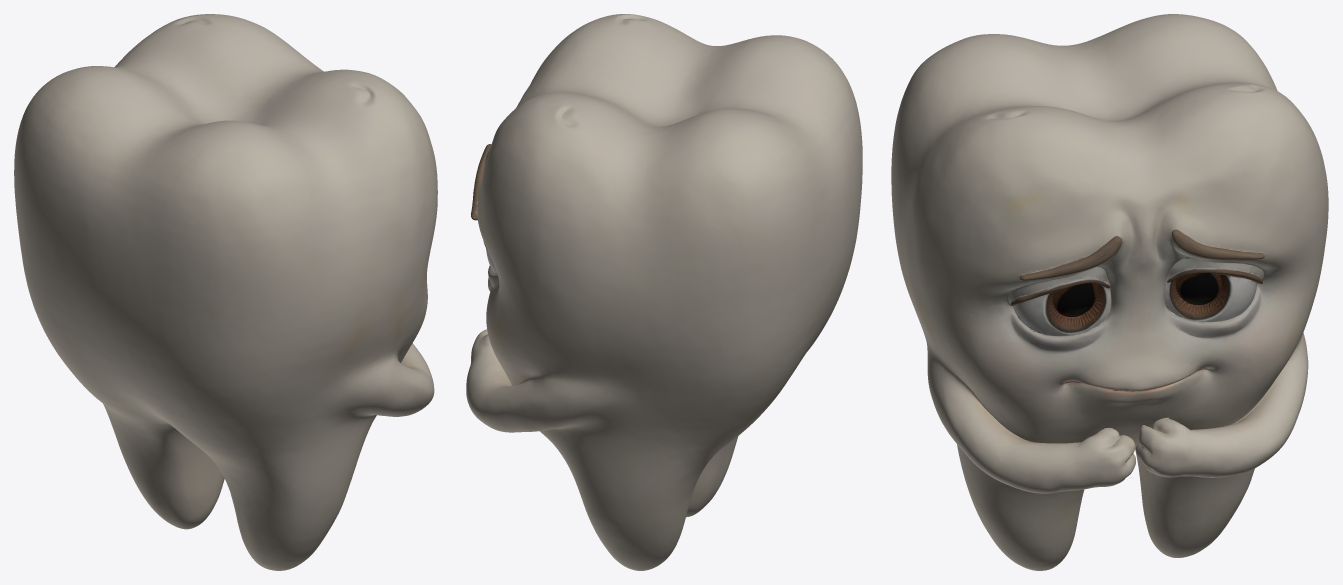
File: glbData_1780601435065_6daur.glb
The picture shows the model from 3 angles, left to right: view 1: azimuth 30°, elevation 25°; view 2: azimuth 150°, elevation 25°; view 3: azimuth 270°, elevation 25°; orthographic projection. The views are drawn at different scales.
Parts seen in each view (by area): view 1: tripo_node_373cf2f0-380e-420c-ad81-beda47645995; view 2: tripo_node_373cf2f0-380e-420c-ad81-beda47645995; view 3: tripo_node_373cf2f0-380e-420c-ad81-beda47645995.
Boxes of the visible parts, x1,y1,x2,y2 form: tripo_node_373cf2f0-380e-420c-ad81-beda47645995: (14,14,437,570); tripo_node_373cf2f0-380e-420c-ad81-beda47645995: (466,14,862,570); tripo_node_373cf2f0-380e-420c-ad81-beda47645995: (891,14,1328,570).
Bounding box in the file's own units: 0.0754 × 0.1 × 0.0805.
1 material, 1 textured.
